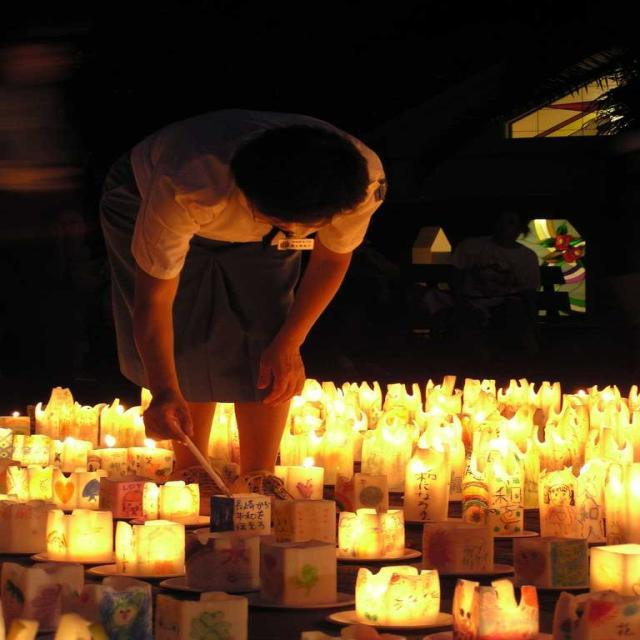Fire: (306, 374, 621, 484), (10, 402, 146, 494), (64, 511, 176, 566), (362, 561, 448, 619)
